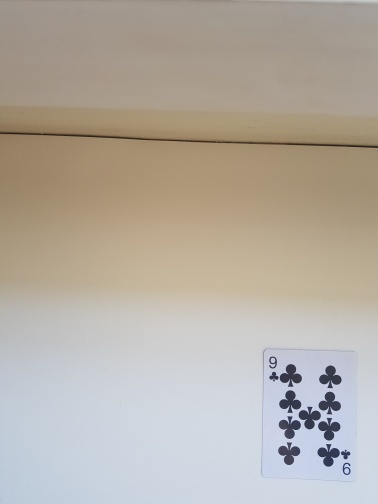nine: (260, 347, 358, 484)
